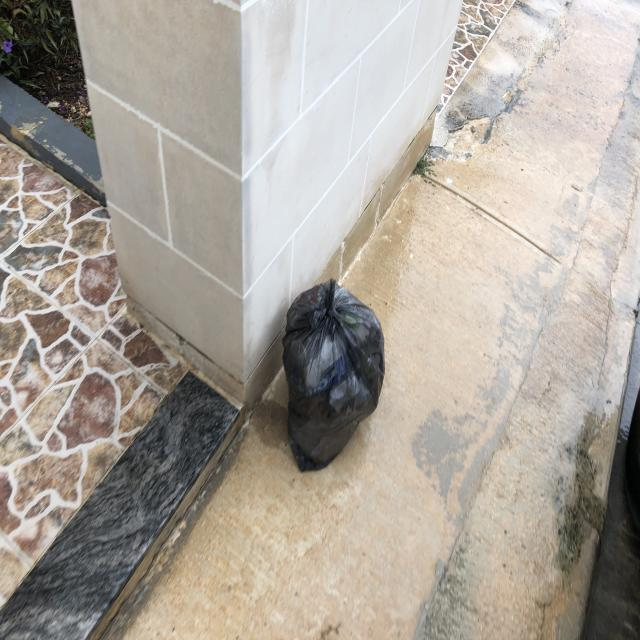Mixed Waste -Black Bag-: (284, 279, 387, 473)
